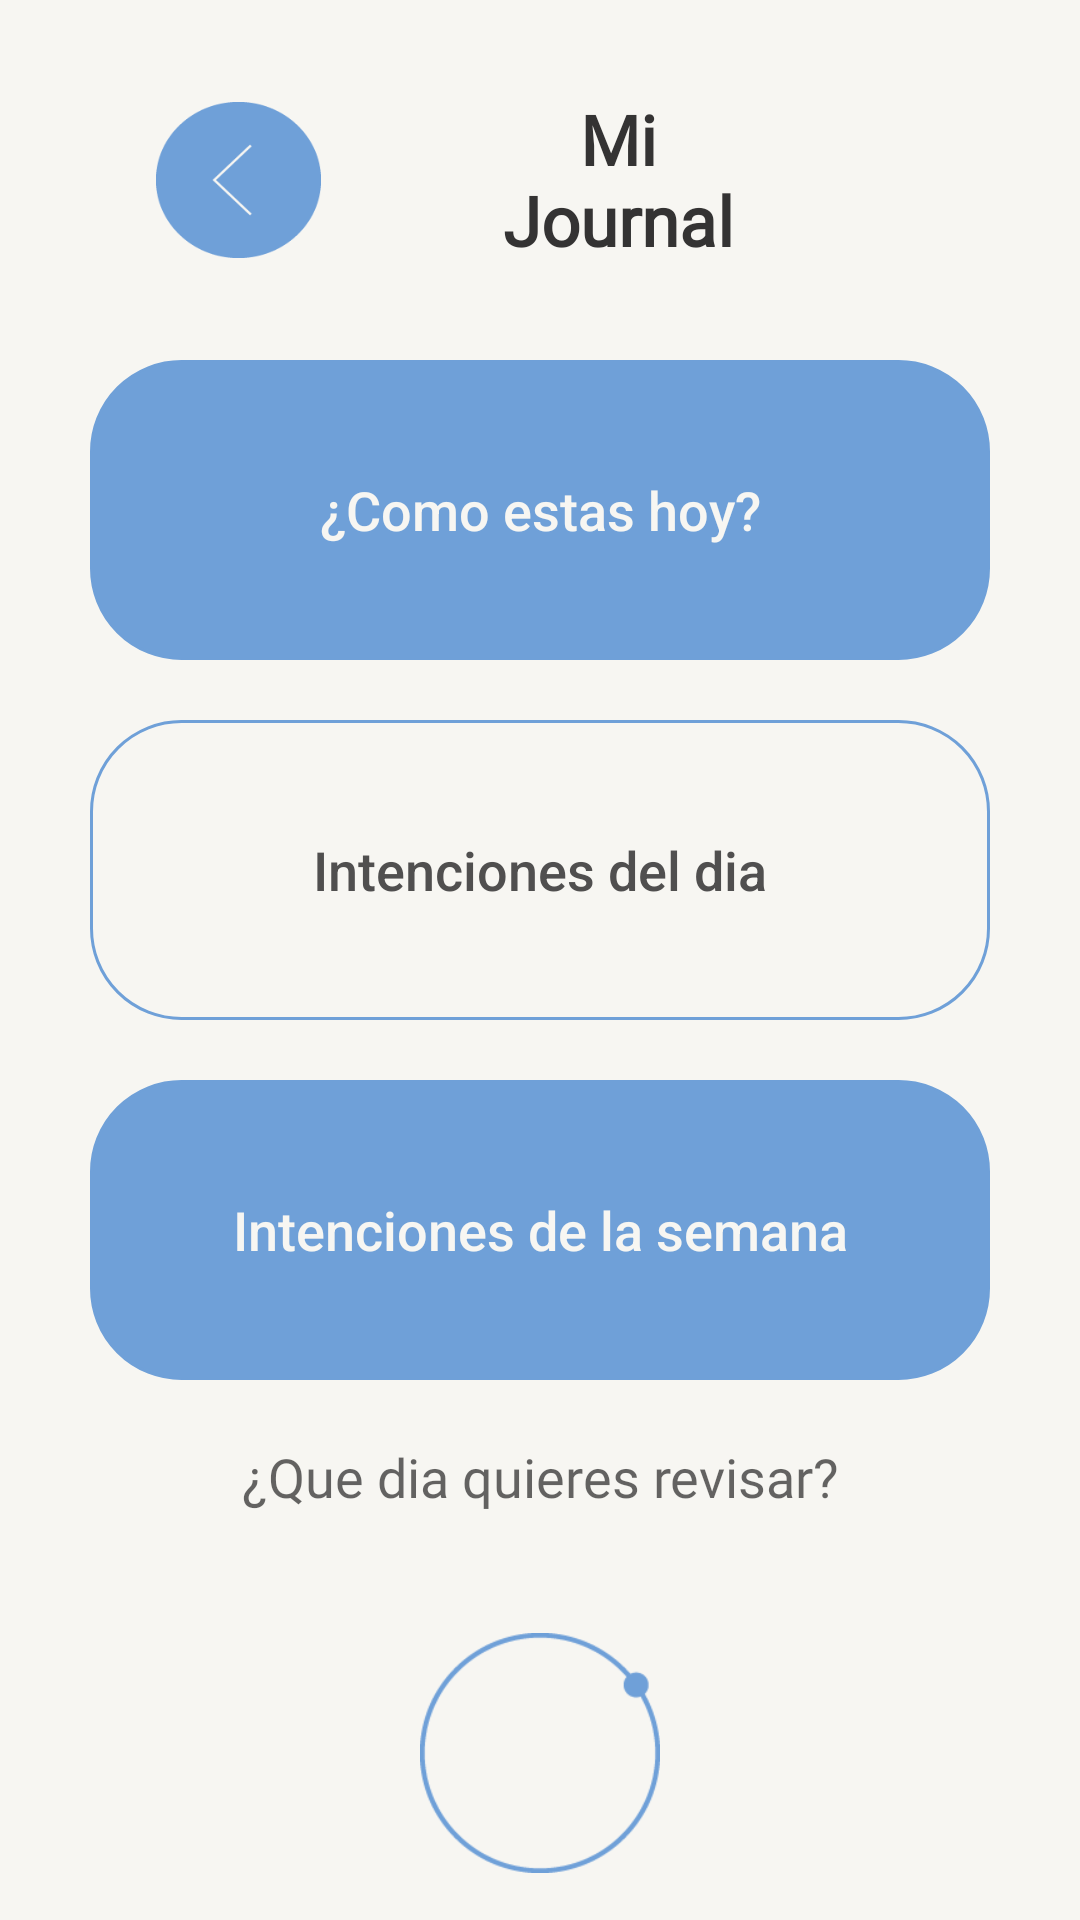

Point at icon controls on the screen. Image size 1080px x 1920px, points as [x,y].
regresar xxxdpi: [238,180]
